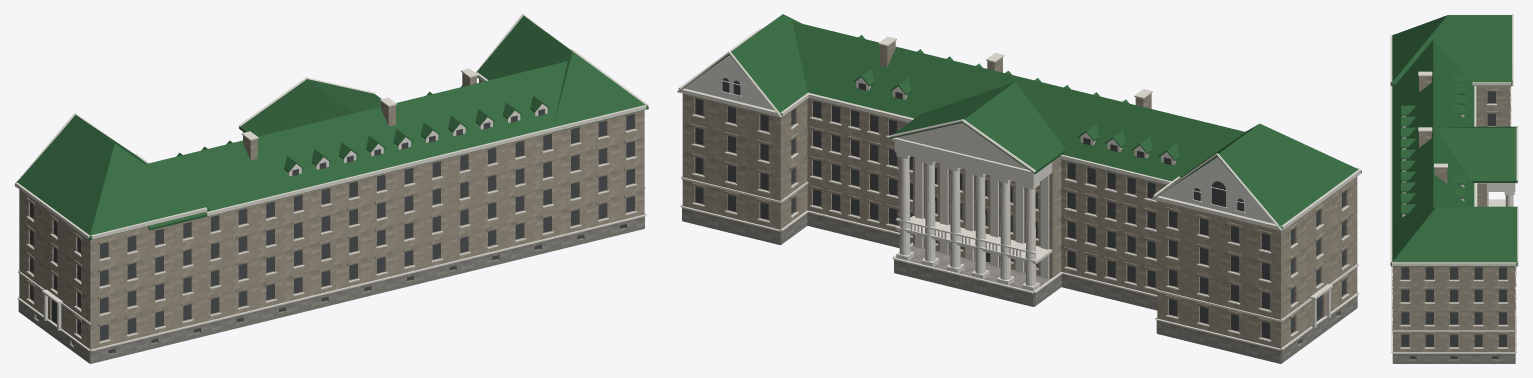
3 renders of one model, left to right at view 1: azimuth 30°, elevation 25°; view 2: azimuth 150°, elevation 25°; view 3: azimuth 270°, elevation 25°, orthographic. The views are drawn at different scales.
Visible parts, largest first — view 1: history__stone, history__roof, history__glass, history__trim, history__plinth, history__frame, history__stucco; view 2: history__stone, history__roof, history__trim, history__glass, history__plinth, history__stucco, history__frame; view 3: history__roof, history__stone, history__trim, history__glass, history__plinth, history__frame, history__stucco.
Boxes of the visible parts, x1,y1,x2,y2 form: history__stone: [19, 73, 644, 349]; history__roof: [15, 16, 648, 240]; history__glass: [30, 109, 633, 352]; history__trim: [14, 14, 648, 351]; history__plinth: [18, 216, 644, 363]; history__frame: [30, 109, 634, 353]; history__stucco: [287, 104, 547, 176]; history__stone: [682, 41, 1357, 348]; history__roof: [693, 14, 1361, 230]; history__trim: [677, 28, 1361, 350]; history__glass: [696, 78, 1345, 343]; history__plinth: [682, 99, 1357, 363]; history__stucco: [684, 56, 1274, 223]; history__frame: [695, 83, 1345, 343]; history__roof: [1390, 15, 1517, 266]; history__stone: [1392, 76, 1515, 352]; history__trim: [1390, 14, 1518, 353]; history__glass: [1402, 91, 1506, 358]; history__plinth: [1392, 277, 1515, 363]; history__frame: [1401, 91, 1506, 359]; history__stucco: [1402, 84, 1464, 217].
Size of the model in its own units: 71.95 by 22.38 by 17.33.
Materials: 7 (2 with a texture image).
